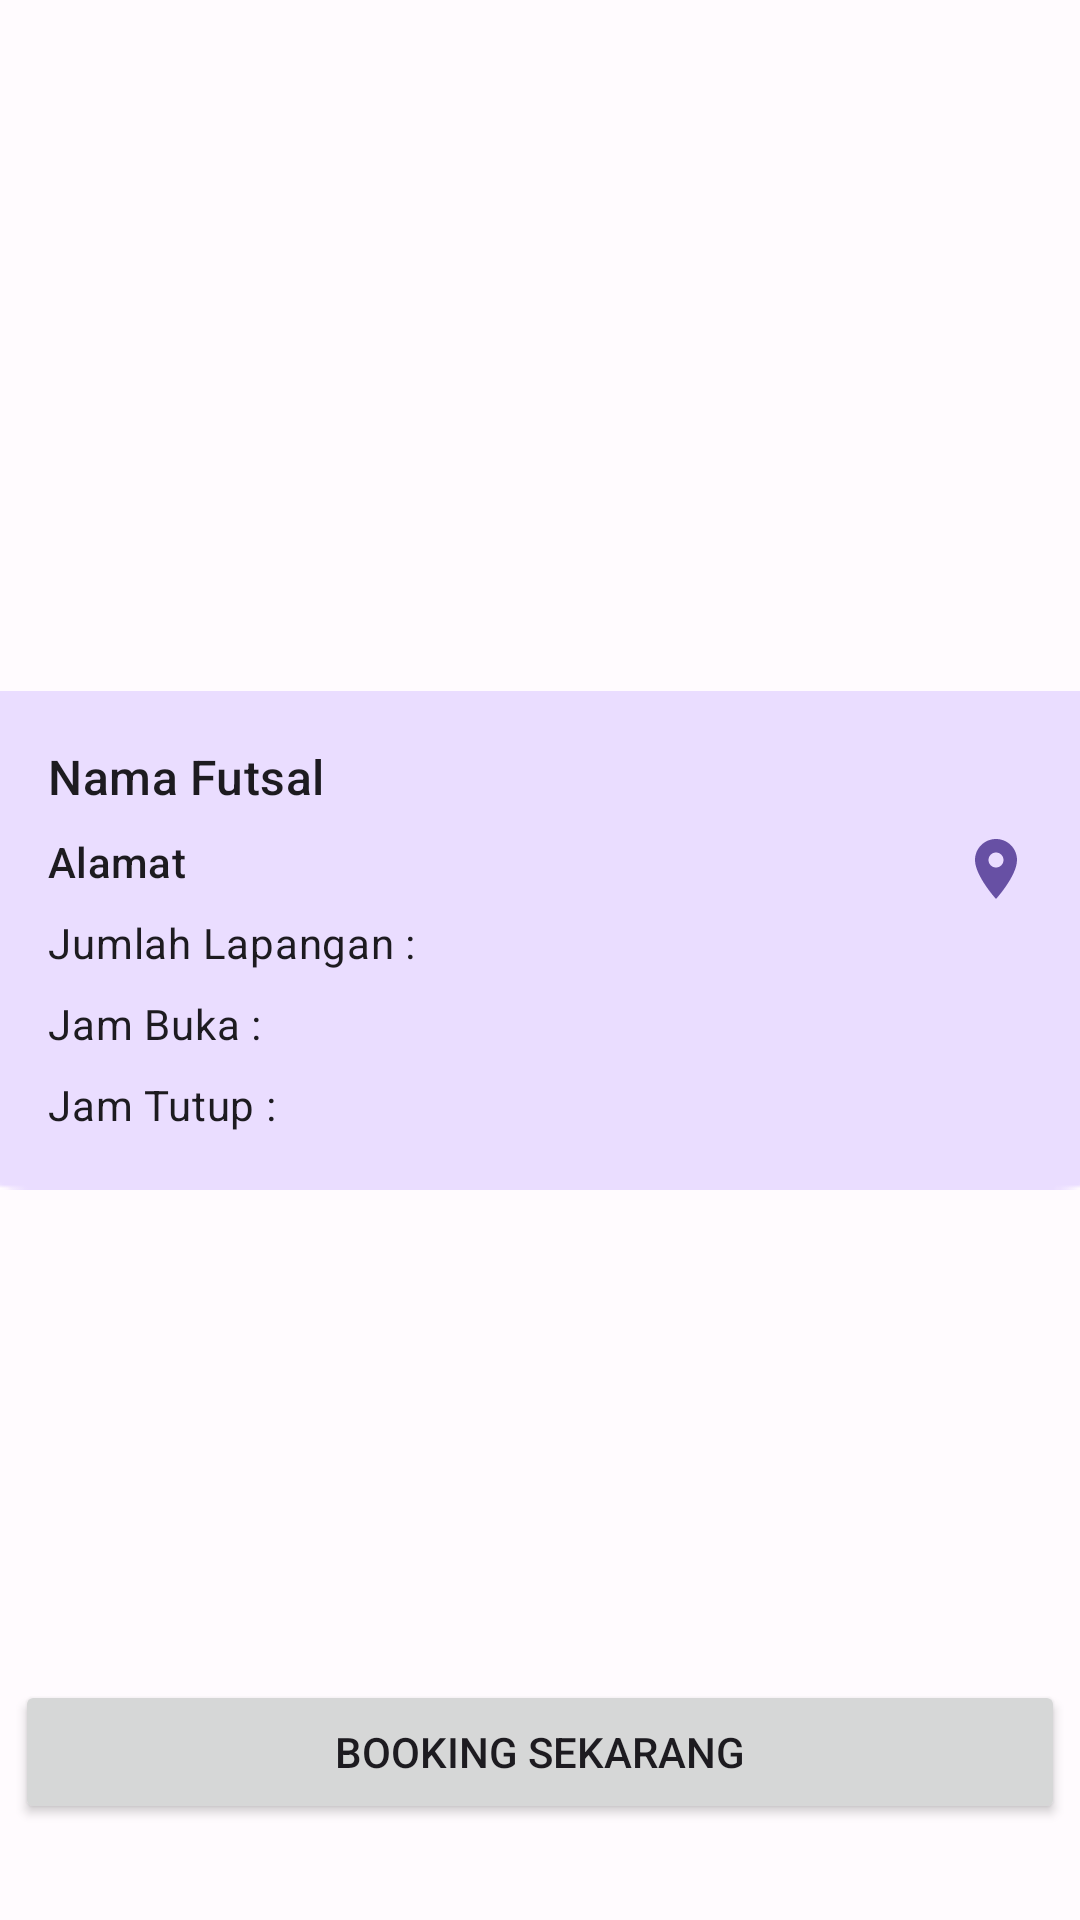

Icons on this 1080px x 1920px Android screen, each with its box as (x1, y1, x2, y2):
location on: (975, 839, 1017, 899)
